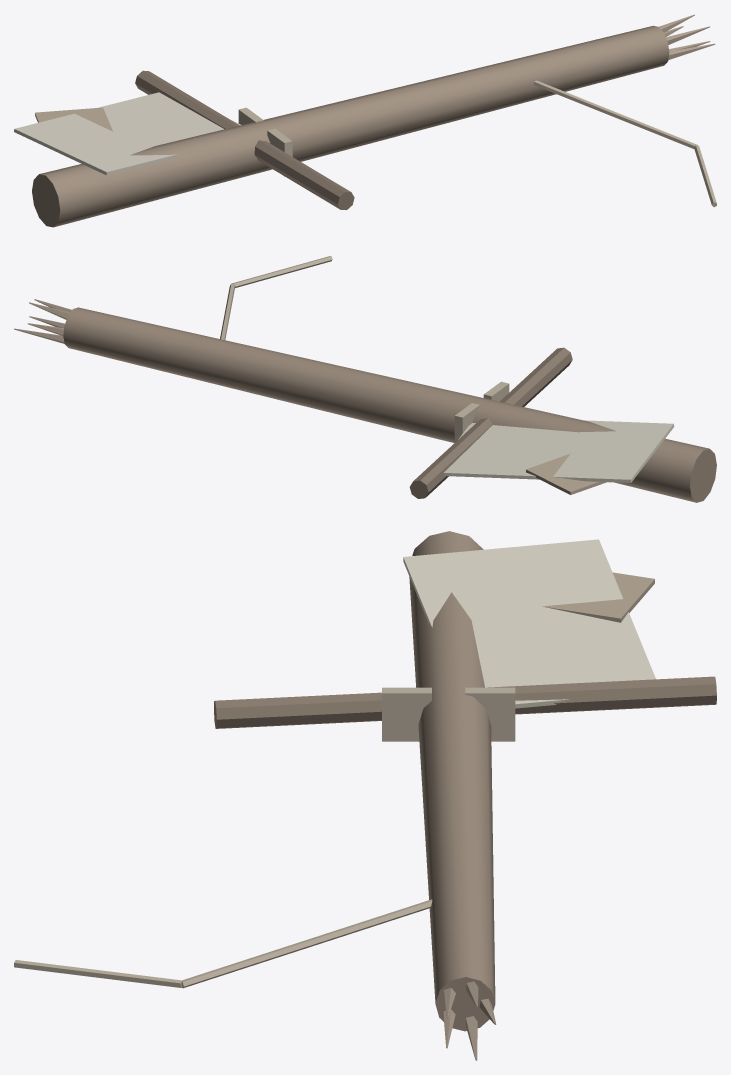
Rendered from castaway_spar.gltf.
3 views of the same model, one above another, from view 1: azimuth 30°, elevation 25°; view 2: azimuth 150°, elevation 25°; view 3: azimuth 270°, elevation 25° (orthographic). The views are drawn at different scales.
Visible parts, largest first — view 1: Body; view 2: Body; view 3: Body.
Boxes of the visible parts, left/top/right/bottom form: Body: left=14, top=14, right=716, bottom=227; Body: left=14, top=256, right=716, bottom=502; Body: left=14, top=531, right=716, bottom=1060.
Bounding box in the file's own units: 6.75 × 0.519 × 4.22.
